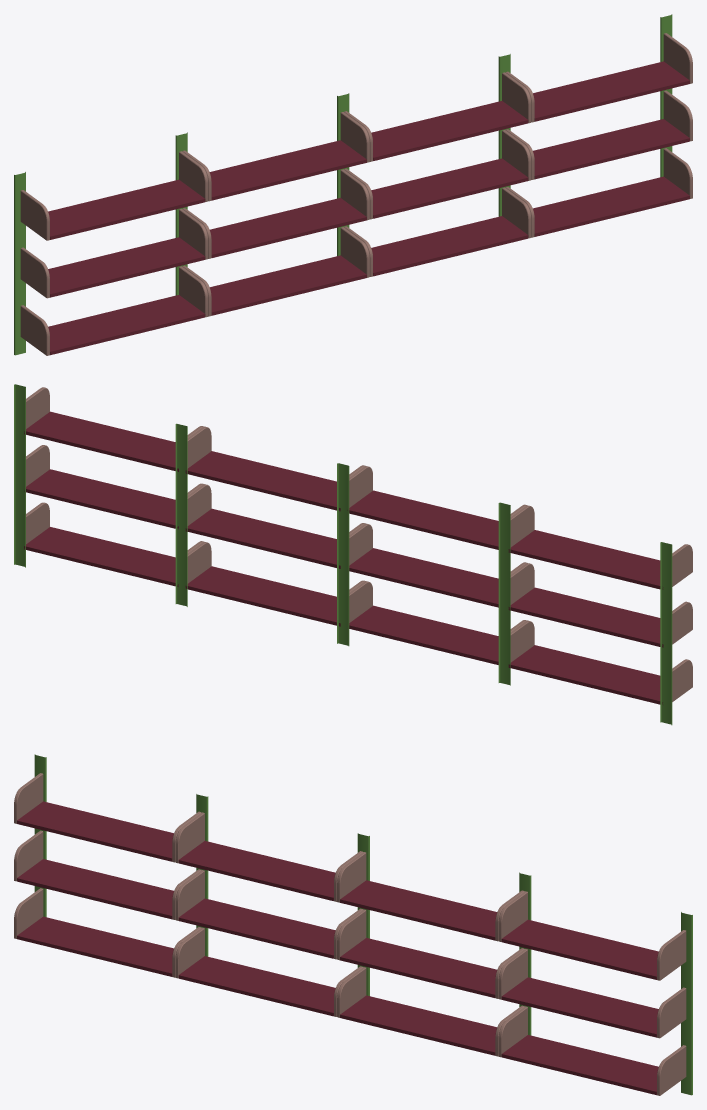
File: lab_rack.fbx
The picture shows the model from 3 angles, top to bottom: view 1: azimuth 30°, elevation 25°; view 2: azimuth 150°, elevation 25°; view 3: azimuth 330°, elevation 25°; orthographic projection.
Parts seen in each view (by area): view 1: lab_rack; view 2: lab_rack; view 3: lab_rack.
Part boxes in pixels (box(x1,y1,x2,y2)): lab_rack: box(14, 14, 692, 355); lab_rack: box(14, 384, 692, 725); lab_rack: box(14, 754, 692, 1095).
Size of the model in its own units: 4.03 by 1.06 by 0.2891.
